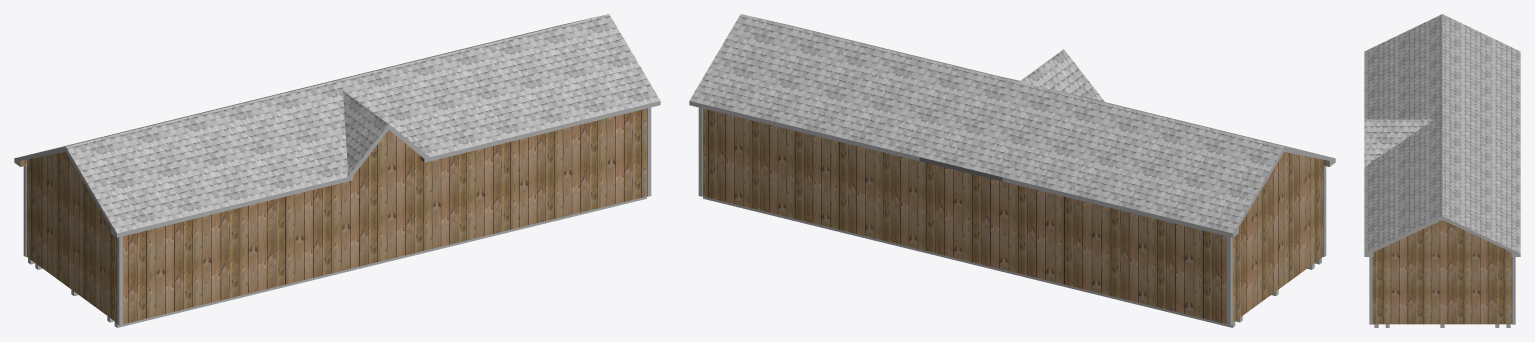
File: Victorian Shed_12x36.obj
The picture shows the model from 3 angles, left to right: view 1: azimuth 30°, elevation 25°; view 2: azimuth 150°, elevation 25°; view 3: azimuth 270°, elevation 25°; orthographic projection. The views are drawn at different scales.
Visible parts, largest first — view 1: Shed, Roof, Sides, Floor, Trim; view 2: Shed, Roof, Sides, Floor, Trim; view 3: Roof, Shed, Sides, Trim.
Boxes of the visible parts, <box> form: Shed: <box>20,108,647,324</box>; Roof: <box>23,14,660,233</box>; Sides: <box>14,101,660,237</box>; Floor: <box>28,196,646,327</box>; Trim: <box>23,107,651,325</box>; Shed: <box>702,108,1329,324</box>; Roof: <box>689,14,1326,233</box>; Sides: <box>689,101,1335,237</box>; Floor: <box>703,196,1321,327</box>; Trim: <box>698,107,1326,325</box>; Roof: <box>1364,14,1520,253</box>; Shed: <box>1372,220,1512,324</box>; Sides: <box>1364,216,1520,256</box>; Trim: <box>1369,257,1515,324</box>.
Bounding box in the file's own units: 11.89 × 3.14 × 3.89.
